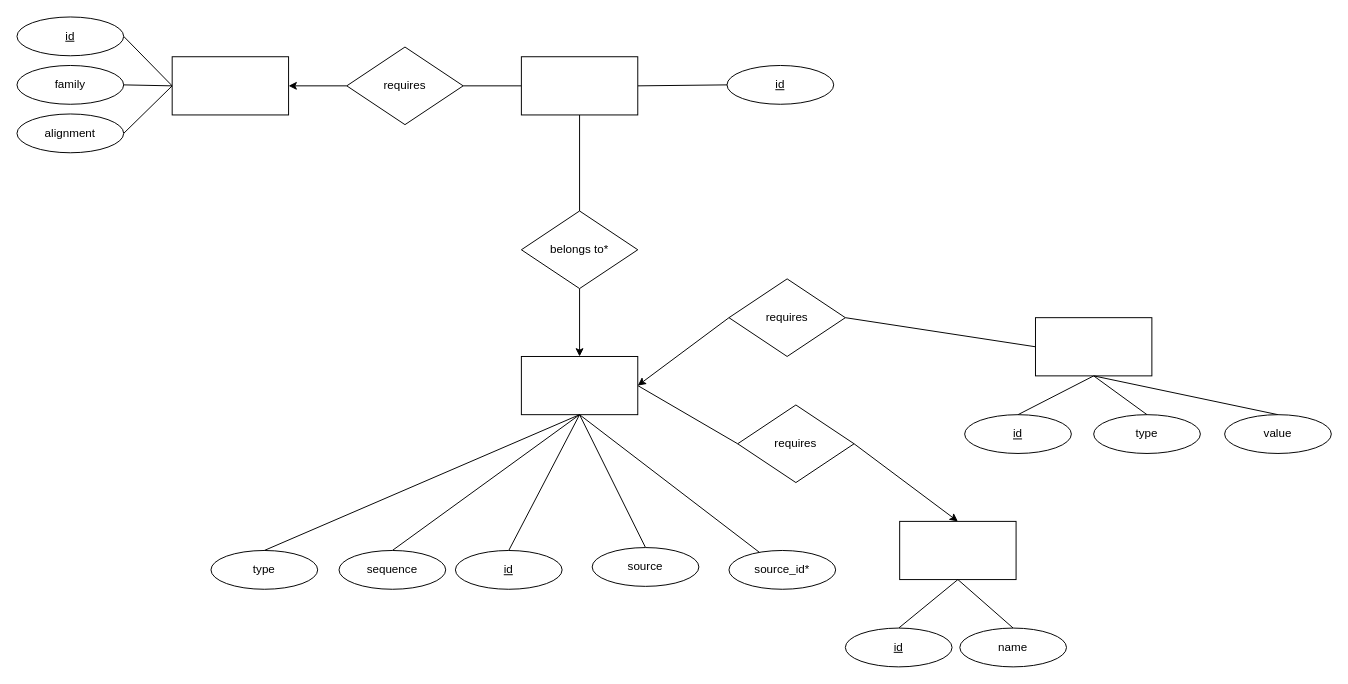
This 1348x684 diagram has some shape labels left out. Each missing label, with the box of its shape:
Alignments: (520, 56, 638, 115)
Homestrad: (171, 56, 289, 115)
Keywords: (1035, 317, 1152, 376)
Organisms: (899, 520, 1016, 580)
Sequences: (520, 356, 638, 415)
